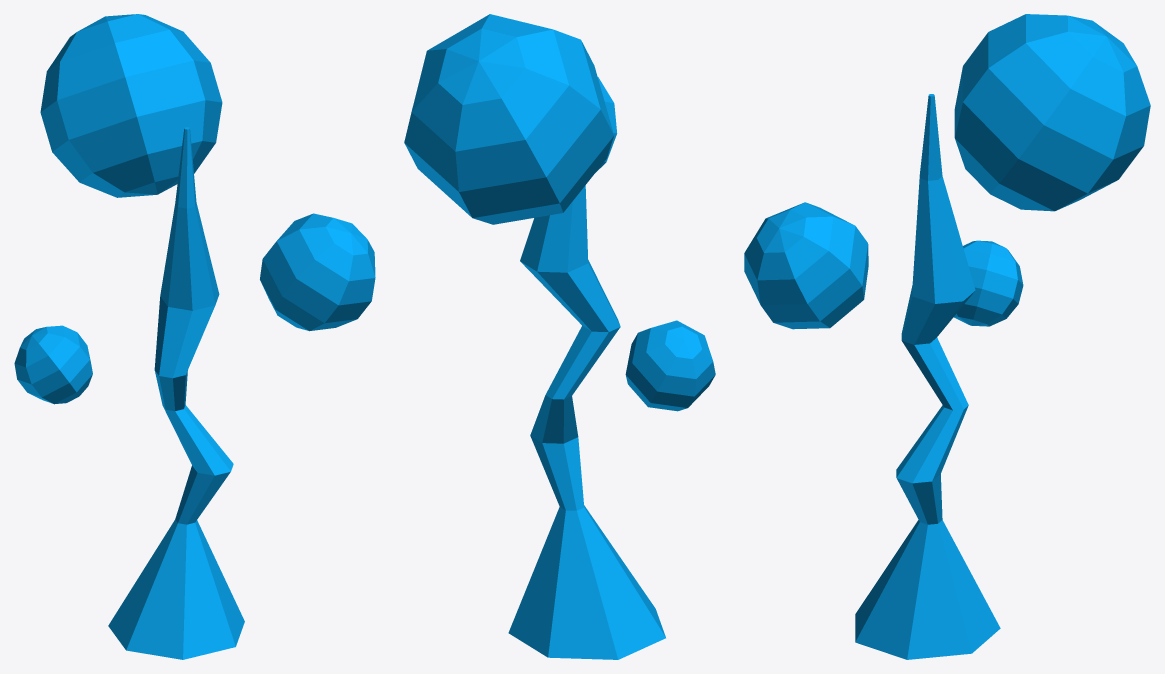
File: Tree_1.fbx
The picture shows the model from 3 angles, left to right: view 1: azimuth 30°, elevation 25°; view 2: azimuth 150°, elevation 25°; view 3: azimuth 270°, elevation 25°; orthographic projection. The views are drawn at different scales.
Visible parts, largest first — view 1: Sphere.002; view 2: Sphere.002; view 3: Sphere.002.
Part boxes in pixels (<box>): Sphere.002: <box>14,14,375,659</box>; Sphere.002: <box>404,14,715,659</box>; Sphere.002: <box>744,14,1150,659</box>.
Bounding box in the file's own units: 138 × 276 × 166.
